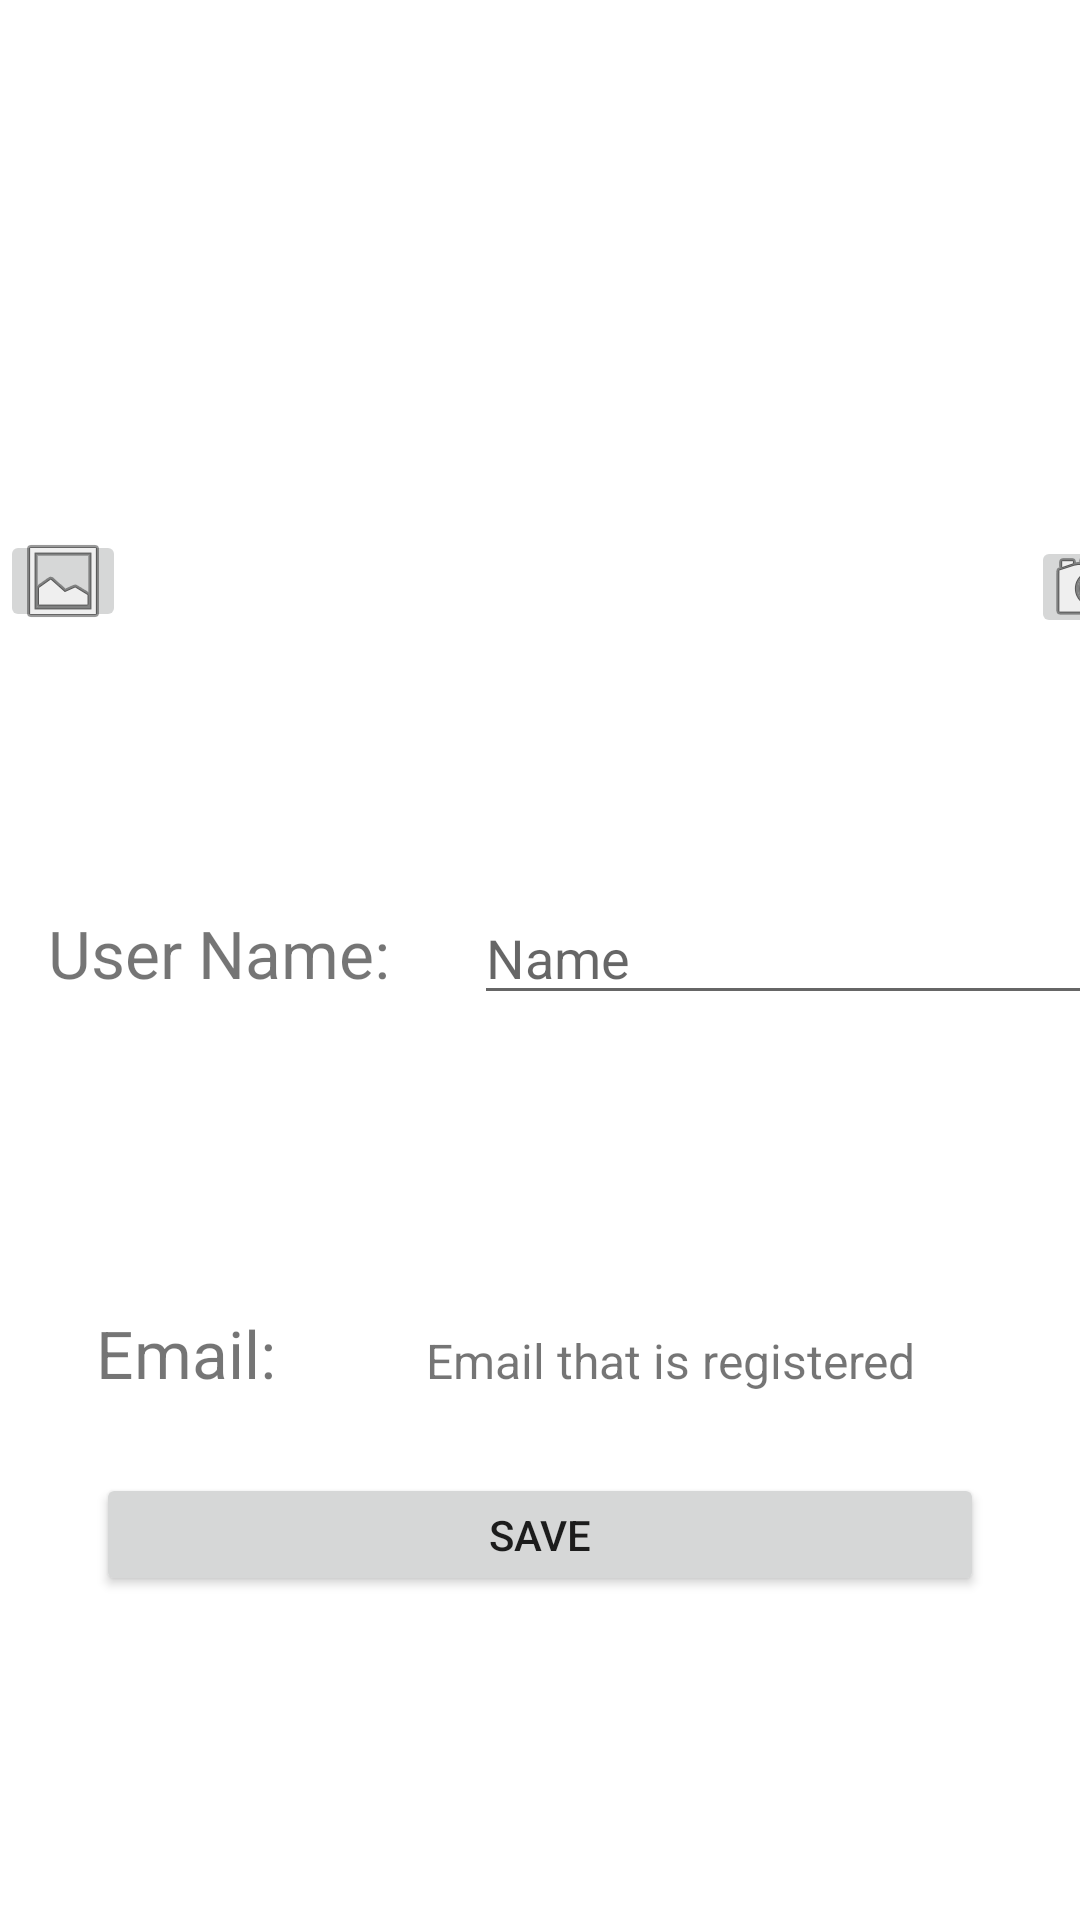

Locate icon controls on the screen. Image size 1080*1920, boxes as (x1, y1, x2, y2).
gallery: (12, 545, 114, 617)
